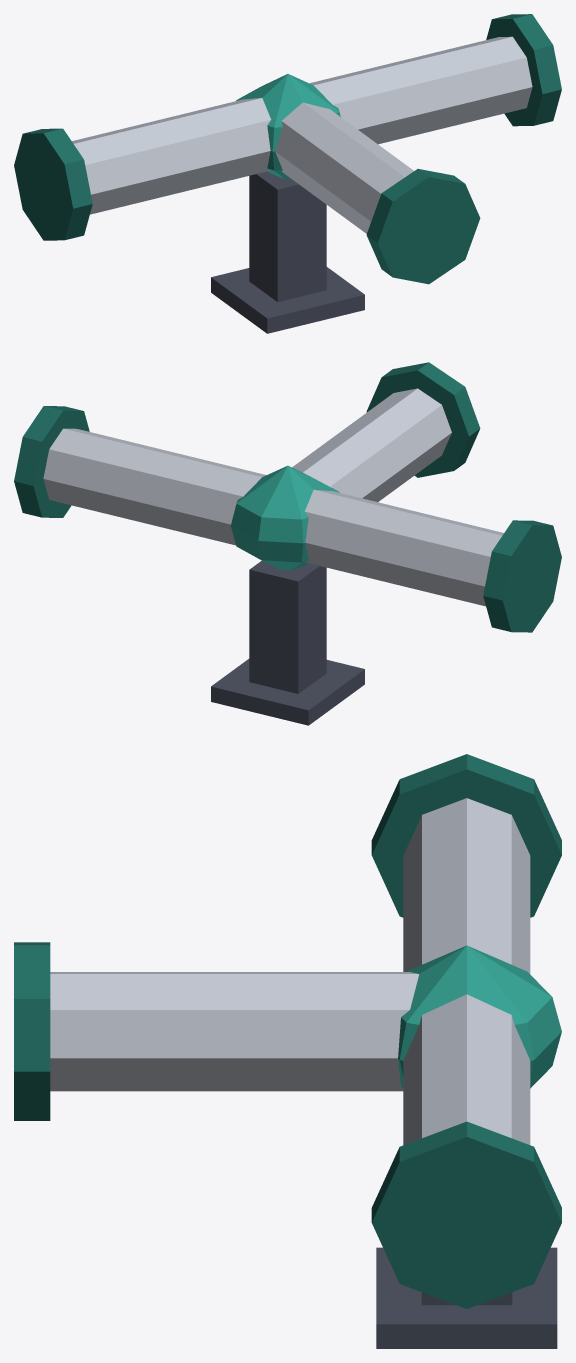
File: pipe-tee.glb
3 views of the same model, one above another, from view 1: azimuth 30°, elevation 25°; view 2: azimuth 150°, elevation 25°; view 3: azimuth 270°, elevation 25° (orthographic). The views are drawn at different scales.
Visible parts, largest first — view 1: pipe-tee; view 2: pipe-tee; view 3: pipe-tee.
Boxes of the visible parts, x1,y1,x2,y2 form: pipe-tee: (14, 14, 561, 333); pipe-tee: (14, 362, 561, 725); pipe-tee: (14, 754, 561, 1348).
Bounding box in the file's own units: 1 × 0.445 × 0.605.
1 material, 1 textured.
